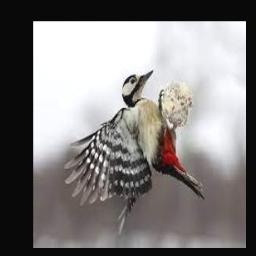Woodpecker: (64, 70, 205, 233)
